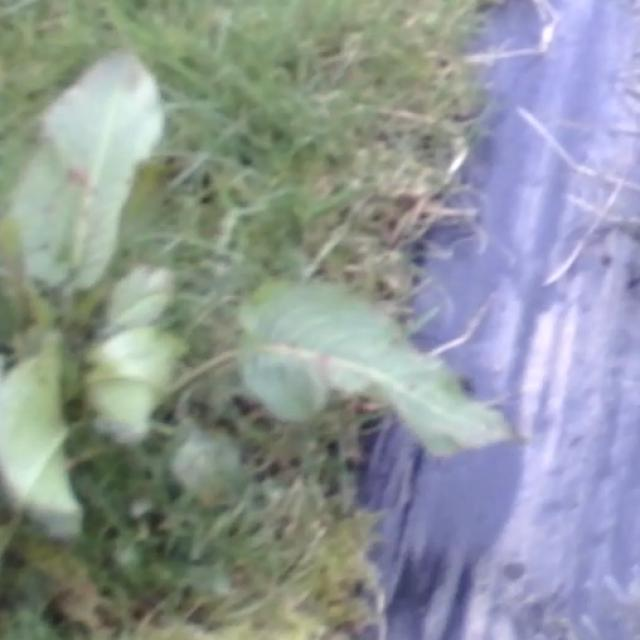organic waste: (0, 41, 590, 555)
